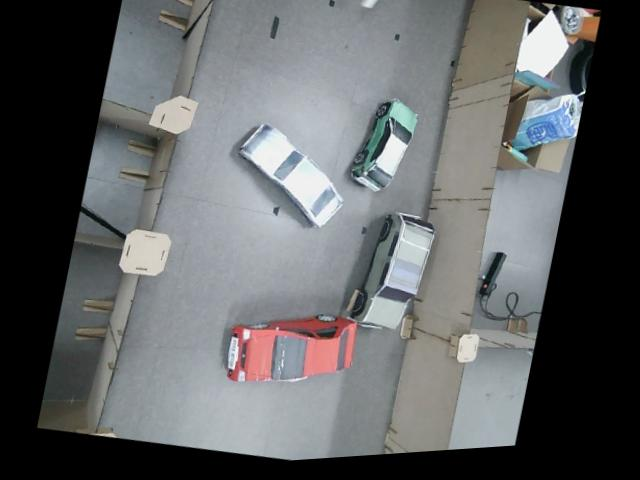car: (221, 111, 358, 241), (218, 292, 362, 405), (345, 203, 439, 340), (344, 89, 421, 199)
